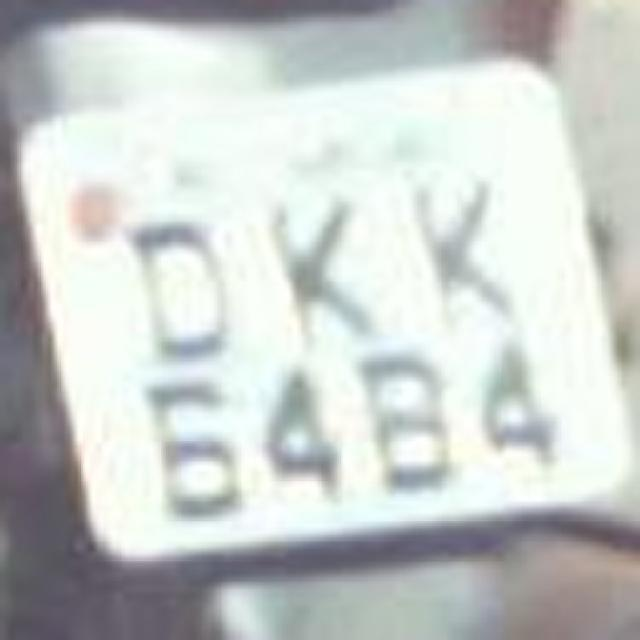4: (236, 344, 356, 516), (460, 336, 568, 484)
6: (120, 360, 265, 528)
8: (348, 340, 464, 500)
O: (132, 209, 236, 356)
X: (391, 168, 524, 344), (256, 184, 376, 351)
